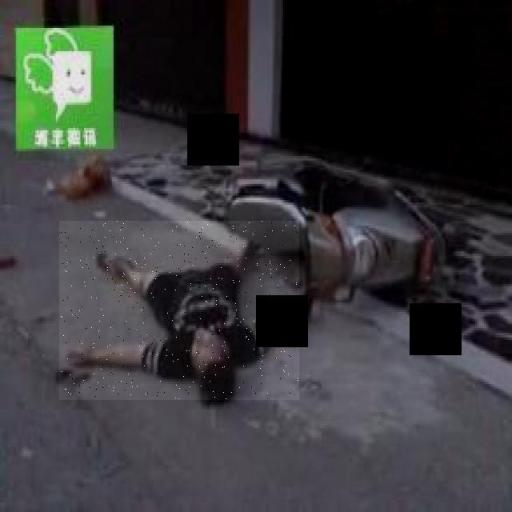Fall: (59, 222, 299, 401)
